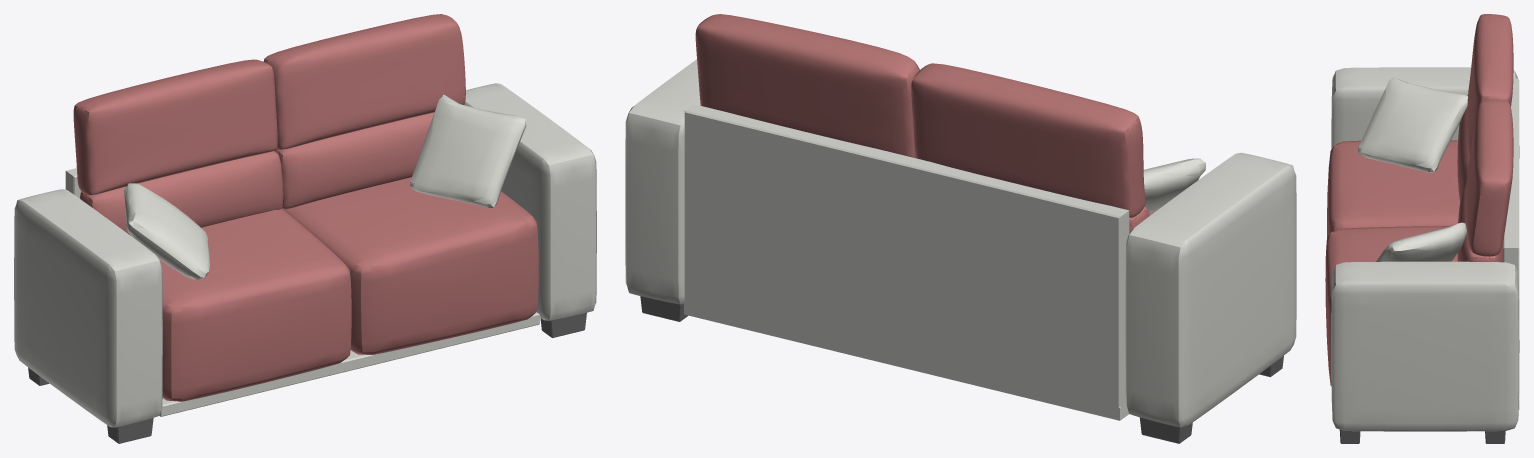
File: sh_scopia_simple_sofa.glb
3 views of the same model, side by side, from view 1: azimuth 30°, elevation 25°; view 2: azimuth 150°, elevation 25°; view 3: azimuth 270°, elevation 25° (orthographic). The views are drawn at different scales.
Bounding box in the file's own units: 1.8 × 0.95 × 0.673.
